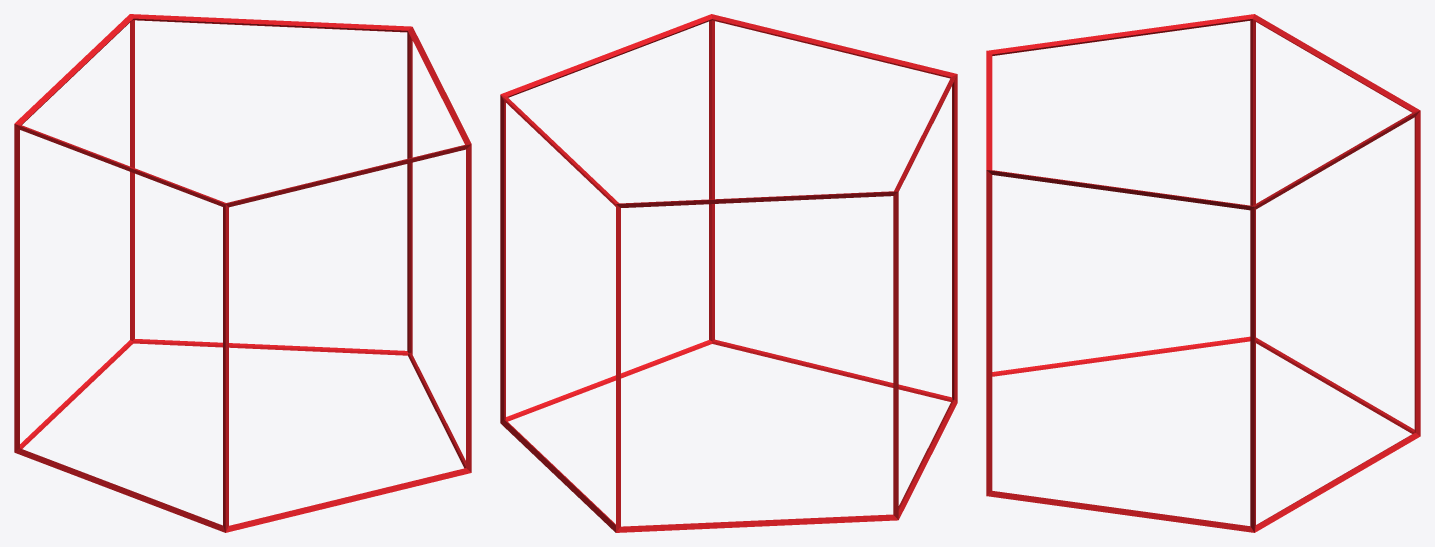
3 views of the same model, side by side, from view 1: azimuth 30°, elevation 25°; view 2: azimuth 150°, elevation 25°; view 3: azimuth 270°, elevation 25° (orthographic).
Parts seen in each view (by area): view 1: 五角柱(邊); view 2: 五角柱(邊); view 3: 五角柱(邊).
Boxes of the visible parts, bbox=[...] form: 五角柱(邊): bbox=[14, 14, 471, 532]; 五角柱(邊): bbox=[500, 14, 957, 532]; 五角柱(邊): bbox=[986, 14, 1420, 532].
Size of the model in its own units: 1.93 by 1.52 by 1.83.
